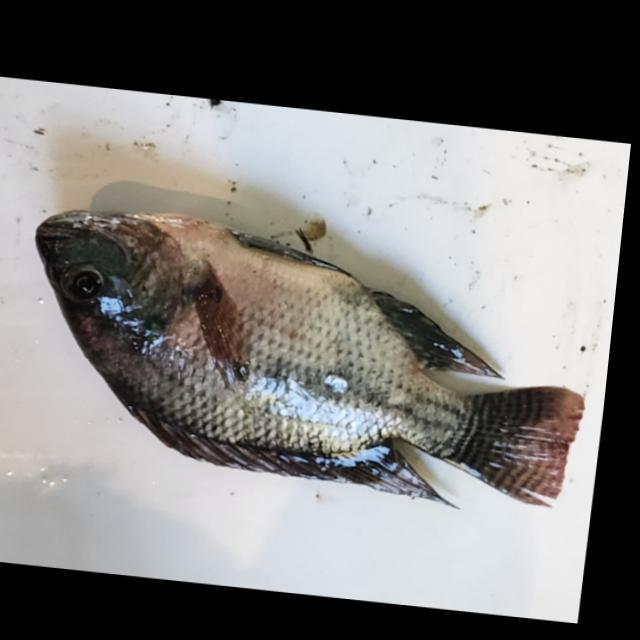Tilapia: (10, 211, 601, 517)
